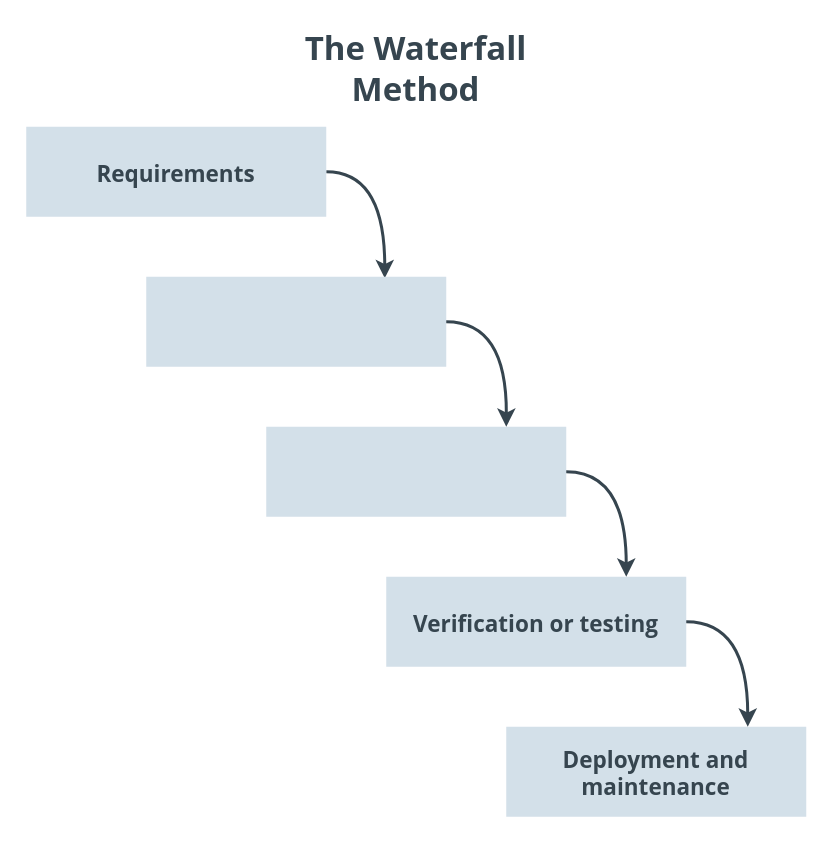
Some shapes in this 831 by 843 pixel diagram are drawn without their labels. The centre of each missing label's shape, as x and y in pixels:
Design: point (296, 321)
Implementation: point (416, 471)
